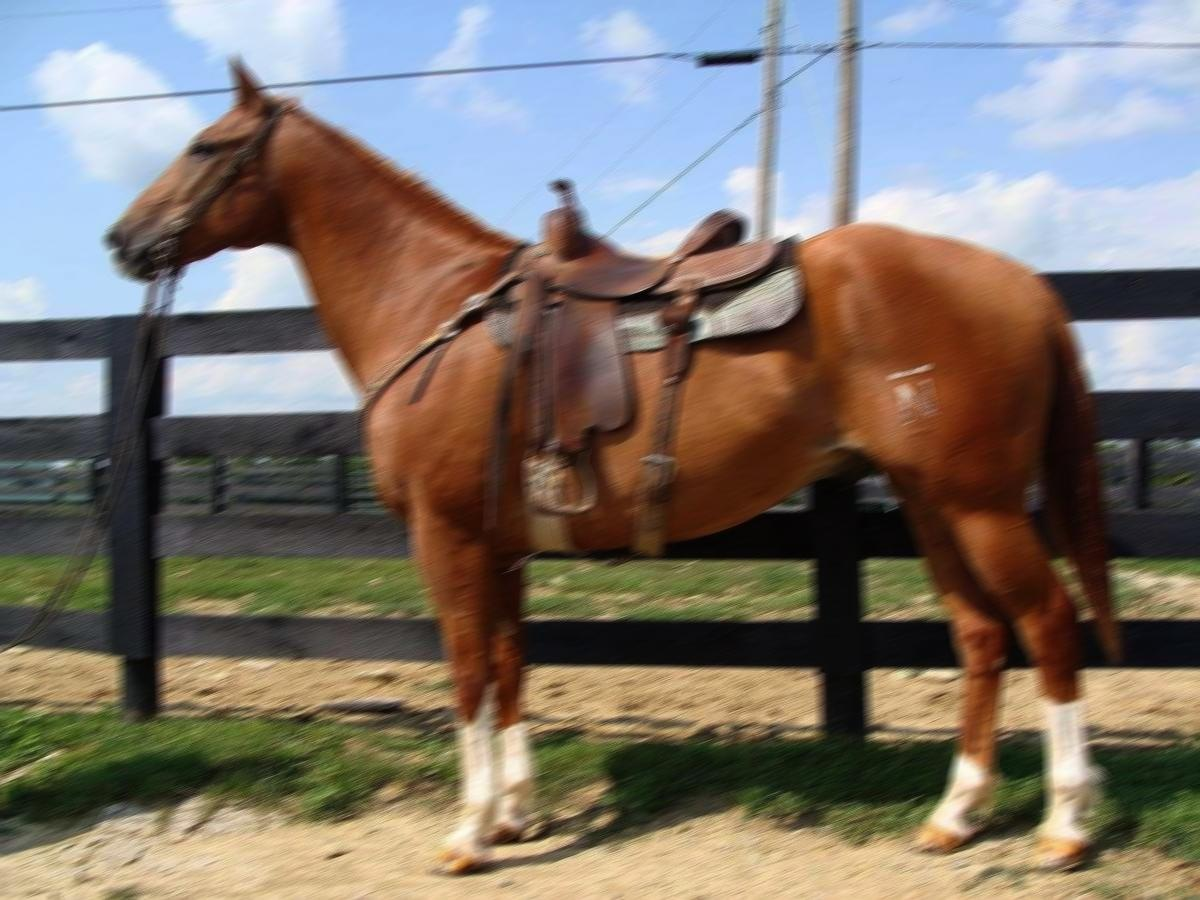horse: (96, 46, 1128, 881)
